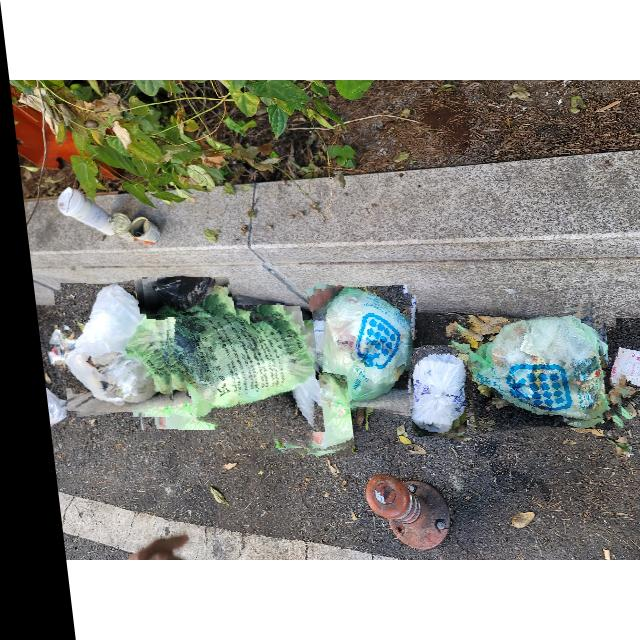general_trashbag: (127, 286, 308, 448), (443, 308, 614, 435), (302, 283, 410, 413), (251, 376, 343, 452)
other_trashbag: (46, 278, 165, 417), (402, 345, 462, 438), (136, 278, 223, 317)
